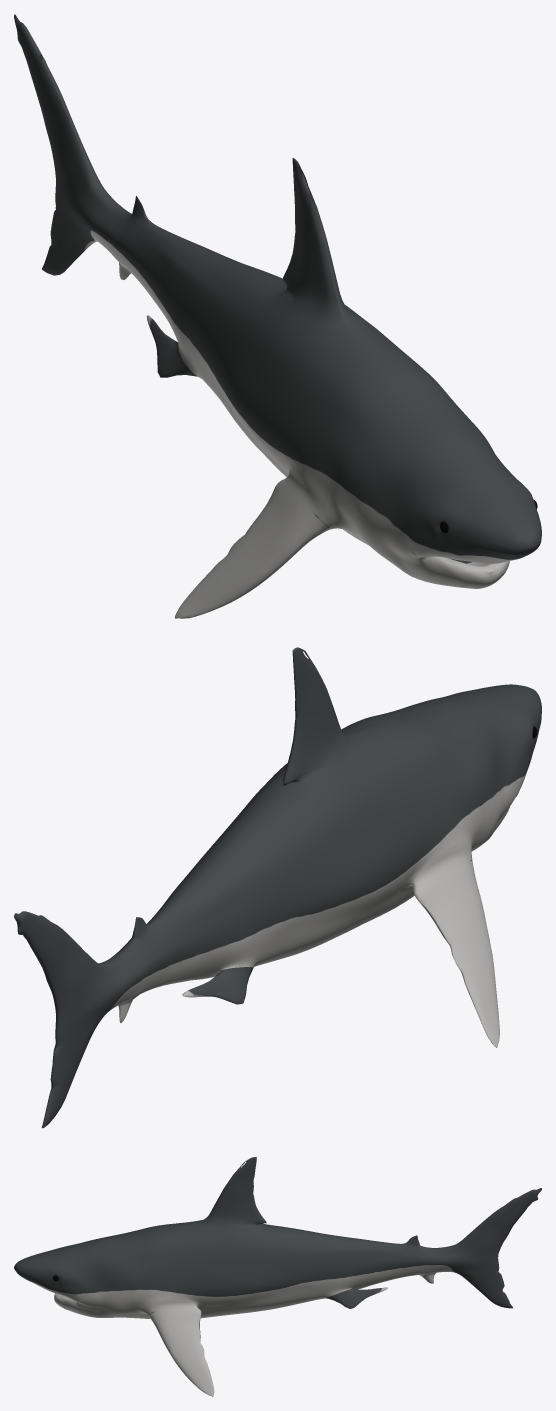
The model's file is tiburon.fbx.
The picture shows the model from 3 angles, top to bottom: view 1: azimuth 30°, elevation 25°; view 2: azimuth 150°, elevation 25°; view 3: azimuth 270°, elevation 25°; orthographic projection. The views are drawn at different scales.
Visible parts, largest first — view 1: tiburon:Shark:great_white_shark; view 2: tiburon:Shark:great_white_shark; view 3: tiburon:Shark:great_white_shark.
Part boxes in pixels (x1=…): tiburon:Shark:great_white_shark: x1=14, y1=14, x2=541, y2=618; tiburon:Shark:great_white_shark: x1=14, y1=647, x2=541, y2=1128; tiburon:Shark:great_white_shark: x1=14, y1=1157, x2=541, y2=1396.
Size of the model in its own units: 8.68 by 10.05 by 24.09.
